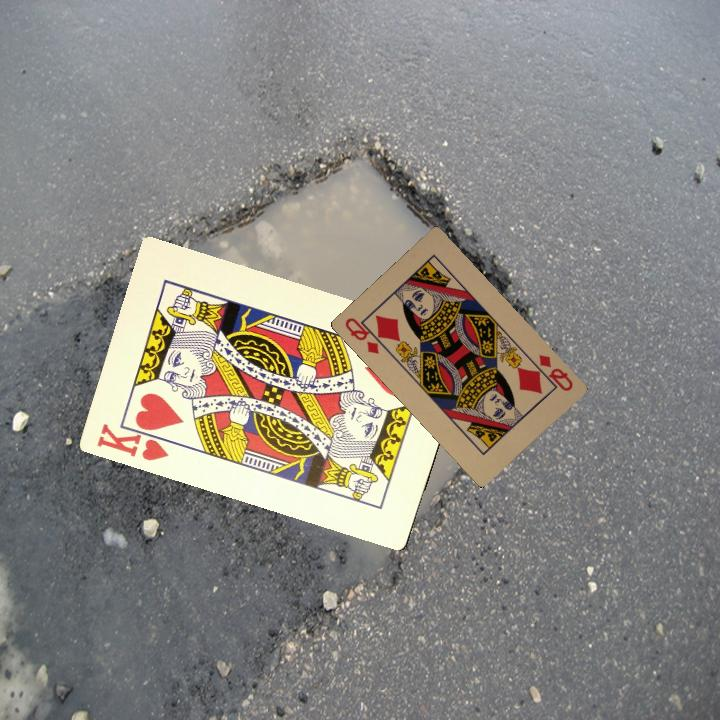Kh: (93, 417, 176, 464)
Qd: (341, 313, 390, 357), (528, 350, 575, 394)
